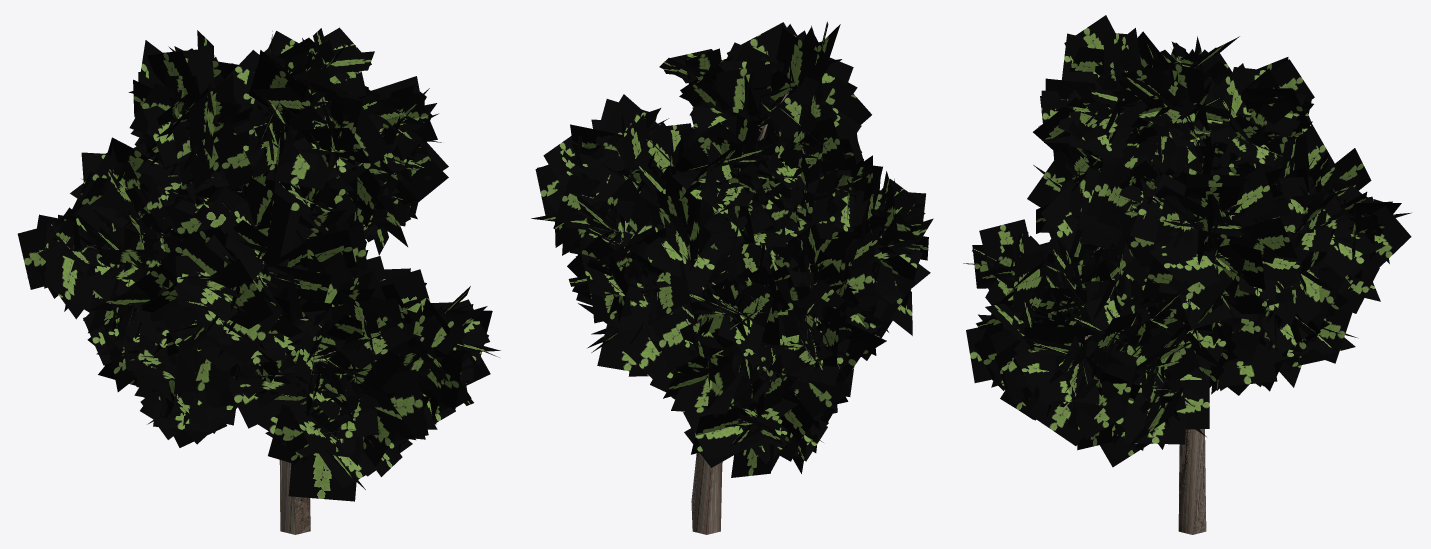
Rendered from street-tree.glb.
3 renders of one model, left to right at view 1: azimuth 30°, elevation 25°; view 2: azimuth 150°, elevation 25°; view 3: azimuth 270°, elevation 25°, orthographic. The views are drawn at different scales.
Visible parts, largest first — view 1: street_tree_leaves, street_tree_trunk; view 2: street_tree_leaves, street_tree_trunk; view 3: street_tree_leaves, street_tree_trunk.
Part boxes in pixels (x1=…): street_tree_leaves: x1=17, y1=27, x2=500, y2=501; street_tree_trunk: x1=279, y1=460, x2=310, y2=534; street_tree_leaves: x1=531, y1=21, x2=933, y2=477; street_tree_trunk: x1=691, y1=93, x2=788, y2=534; street_tree_leaves: x1=963, y1=15, x2=1411, y2=467; street_tree_trunk: x1=1084, y1=335, x2=1206, y2=534.
Bounding box in the file's own units: 50.44 × 66.24 × 57.21.
Materials: 2 (2 with a texture image).
